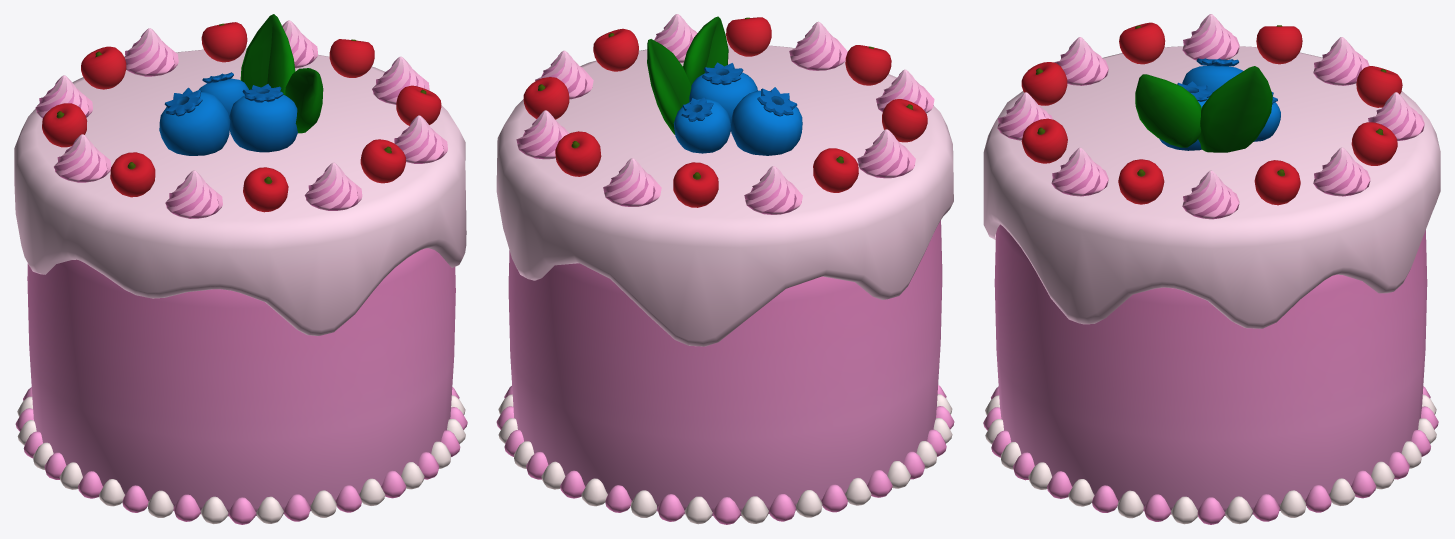
File: Cake_Cherry_V2_00.fbx
The picture shows the model from 3 angles, left to right: view 1: azimuth 30°, elevation 25°; view 2: azimuth 150°, elevation 25°; view 3: azimuth 270°, elevation 25°; orthographic projection.
Parts seen in each view (by area): view 1: Cake_Cherry_V2_00; view 2: Cake_Cherry_V2_00; view 3: Cake_Cherry_V2_00.
Boxes of the visible parts, x1,y1,x2,y2 form: Cake_Cherry_V2_00: (14,14,467,524); Cake_Cherry_V2_00: (496,14,954,524); Cake_Cherry_V2_00: (983,14,1440,524).
Size of the model in its own units: 65.76 by 62.6 by 65.84.
